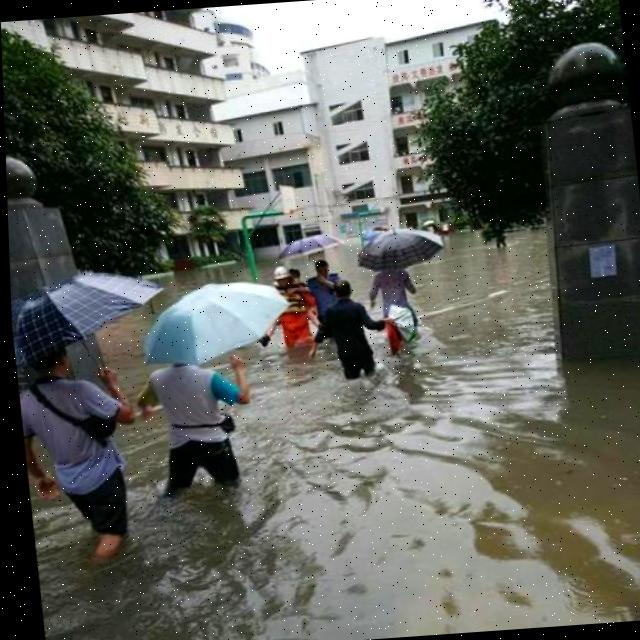civilian: (16, 336, 155, 574), (138, 344, 254, 512), (325, 270, 380, 384), (368, 250, 429, 340), (306, 254, 346, 320), (284, 259, 324, 312)
rescuer: (260, 256, 318, 356)
